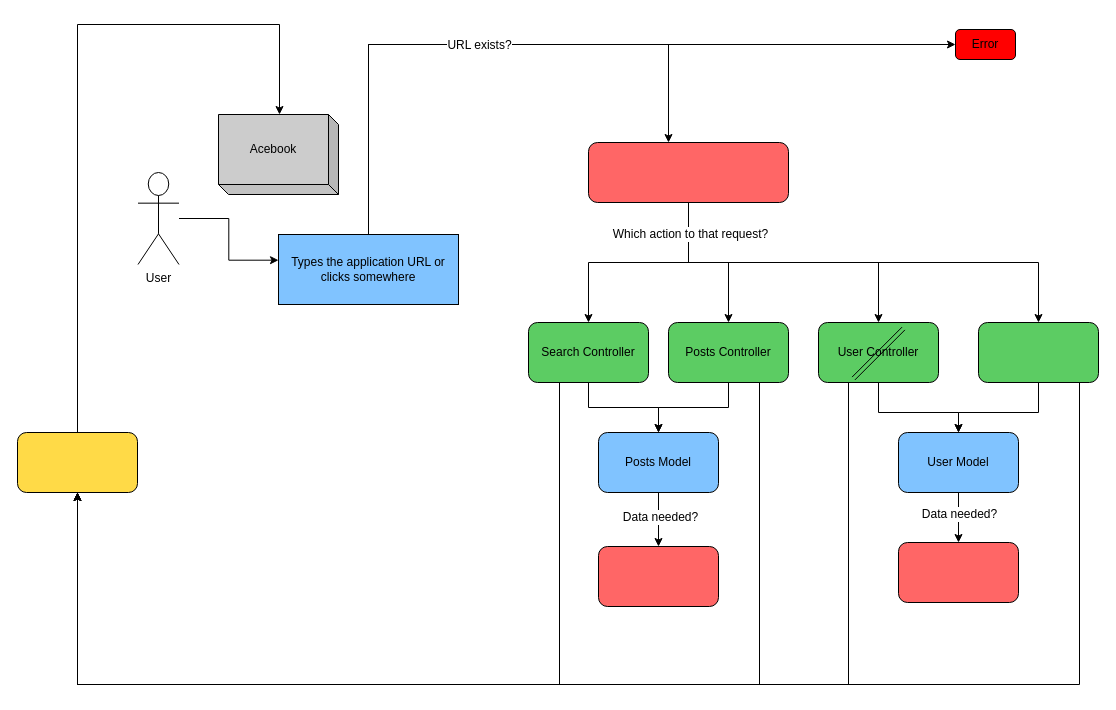
This 1116x710 diagram has some shape labels left out. Here are the shapes that lost their labels. From the top down, the centre of each, then its label:
the point at 688,172: Application Controller
the point at 1038,352: ?Devise
the point at 77,462: Views
the point at 658,576: DB Posts Table
the point at 958,572: DB Users Table
